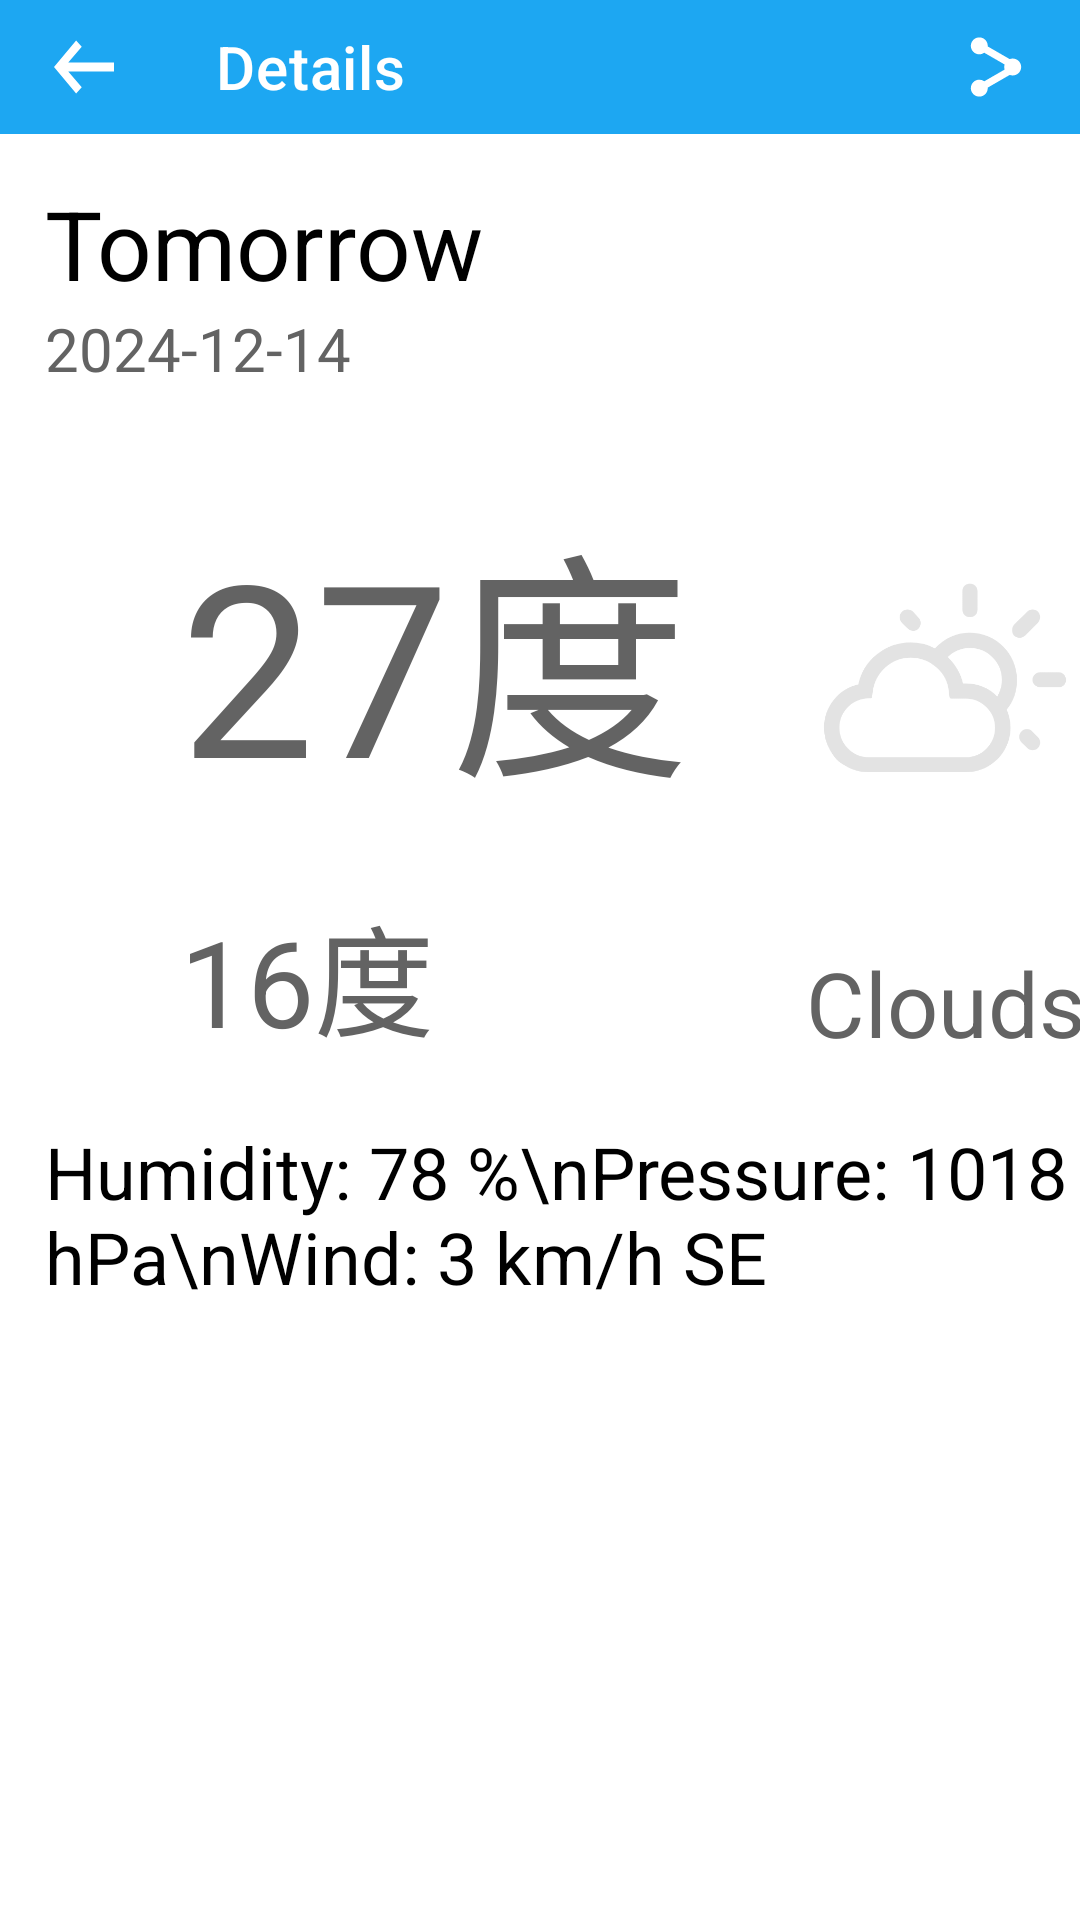

Icon bounding boxes for this 1080 × 1920 phone screenshot, format bbox=[x1, y1, x2, y2]:
daycloudy: bbox=[824, 584, 1066, 772]
Share: bbox=[970, 37, 1022, 97]
